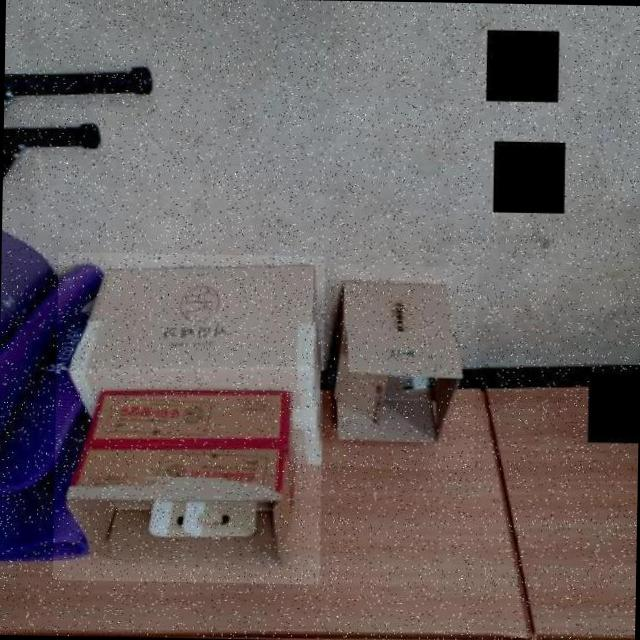box: (52, 251, 325, 584), (332, 264, 478, 470)
